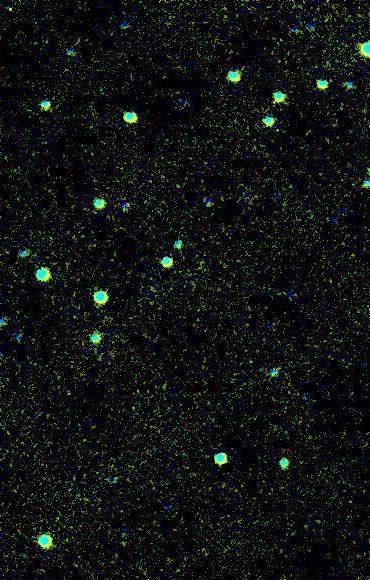star: (0, 0, 25, 25)
